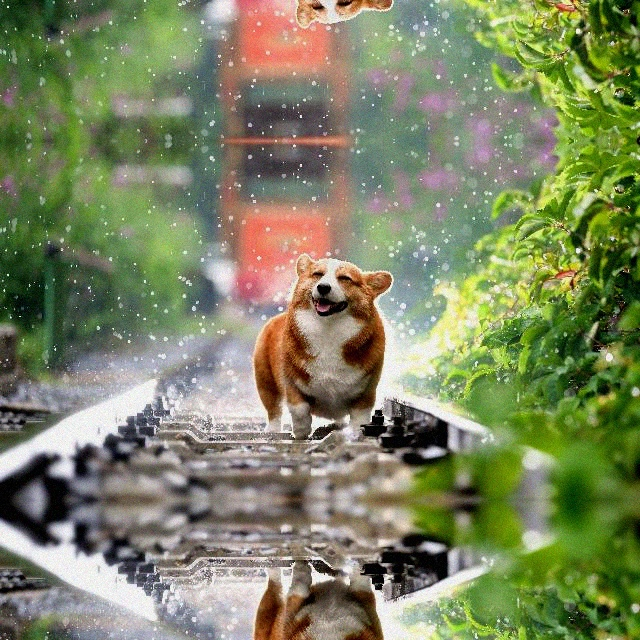dog: (246, 249, 402, 439), (246, 561, 402, 640), (246, 0, 402, 31)
